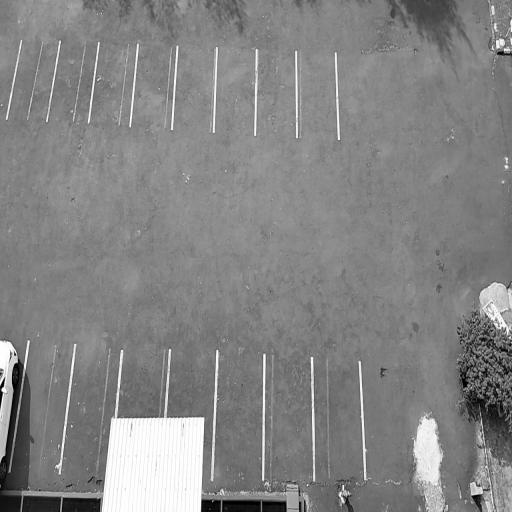Car: (0, 332, 26, 507)
Space Available: (10, 339, 75, 472), (60, 342, 117, 475), (213, 348, 264, 483), (312, 357, 366, 482), (263, 355, 313, 479), (47, 38, 100, 122), (7, 38, 61, 118), (89, 40, 138, 125), (131, 41, 177, 129), (172, 44, 218, 130), (116, 347, 170, 419), (214, 46, 256, 135), (296, 50, 339, 136), (255, 48, 297, 135), (166, 348, 218, 418), (0, 35, 22, 119)
